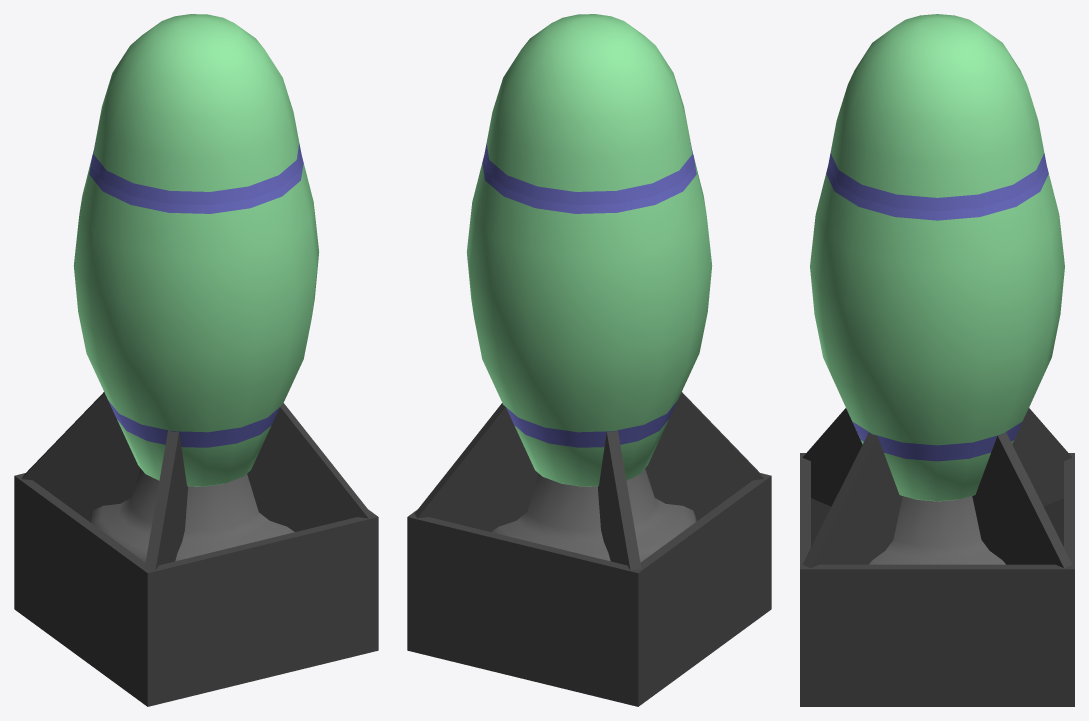
The model's file is Bomb_Lv4.fbx.
3 renders of one model, left to right at view 1: azimuth 30°, elevation 25°; view 2: azimuth 150°, elevation 25°; view 3: azimuth 270°, elevation 25°, orthographic. The views are drawn at different scales.
Visible parts, largest first — view 1: Motor_4, Body_4, Head_4; view 2: Motor_4, Body_4, Head_4; view 3: Motor_4, Body_4, Head_4.
Part boxes in pixels (left/top/right/bottom): Motor_4: left=14, top=392, right=378, bottom=706; Body_4: left=73, top=151, right=319, bottom=486; Head_4: left=91, top=14, right=301, bottom=204; Motor_4: left=407, top=392, right=771, bottom=706; Body_4: left=466, top=151, right=712, bottom=486; Head_4: left=484, top=14, right=694, bottom=204; Motor_4: left=800, top=408, right=1074, bottom=706; Body_4: left=810, top=165, right=1064, bottom=501; Head_4: left=828, top=14, right=1046, bottom=211.
Bounding box in the file's own units: 2.51 × 6.4 × 2.51.
